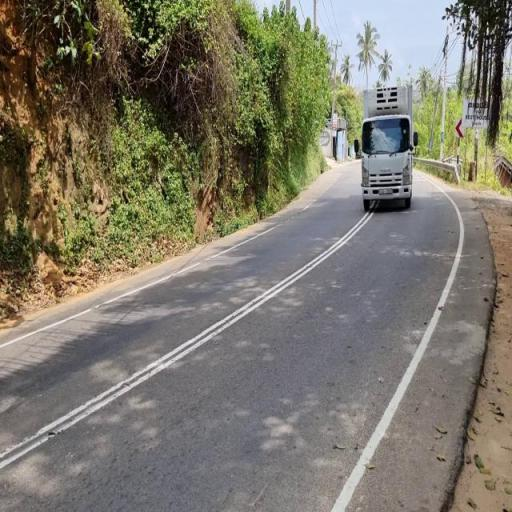double_white_line: (0, 206, 377, 472)
